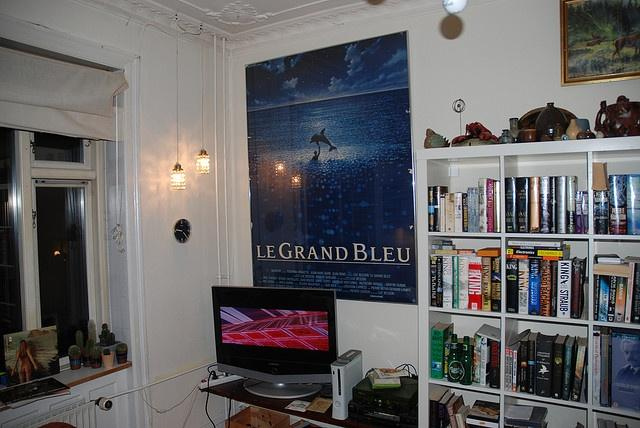AIO PC-Monitor-TV: (209, 284, 338, 401)
Rak: (414, 134, 639, 427)
